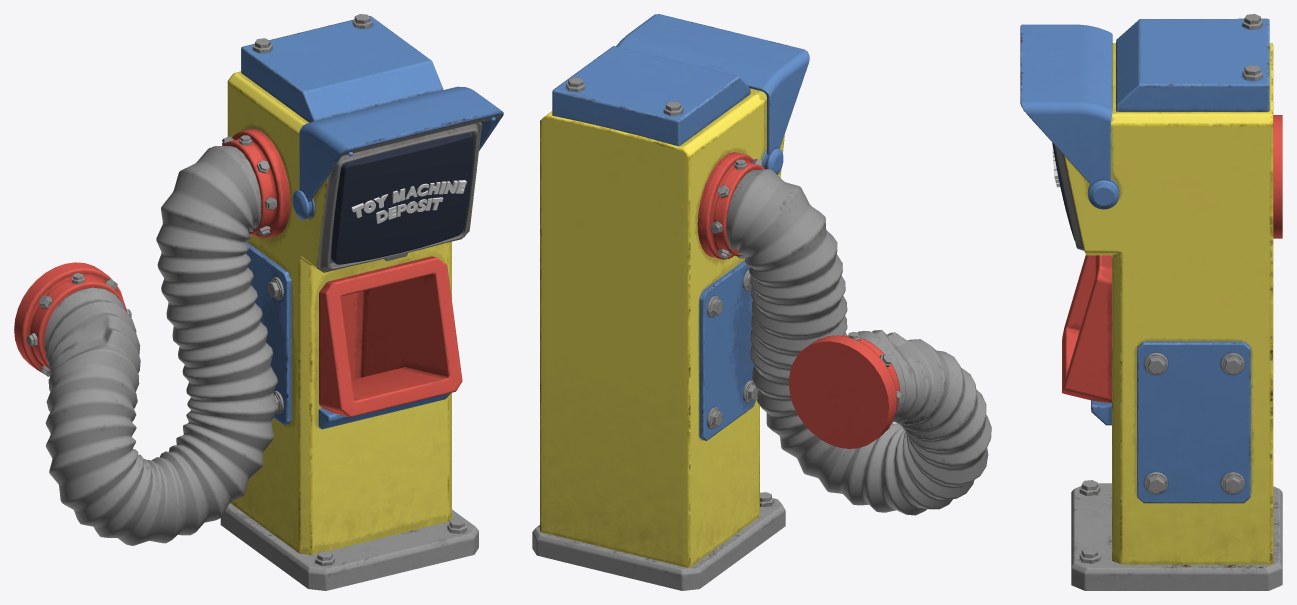
File: SM_ToyMachineDepositA1.fbx
3 views of the same model, side by side, from view 1: azimuth 30°, elevation 25°; view 2: azimuth 150°, elevation 25°; view 3: azimuth 270°, elevation 25° (orthographic). The views are drawn at different scales.
Parts seen in each view (by area): view 1: SM_ToyMachineDepositA1; view 2: SM_ToyMachineDepositA1; view 3: SM_ToyMachineDepositA1.
Part boxes in pixels (x1,y1,x2,y2): SM_ToyMachineDepositA1: (14,14,503,590); SM_ToyMachineDepositA1: (532,14,991,590); SM_ToyMachineDepositA1: (1020,14,1282,590).
Size of the model in its own units: 176 by 200 by 94.36.
